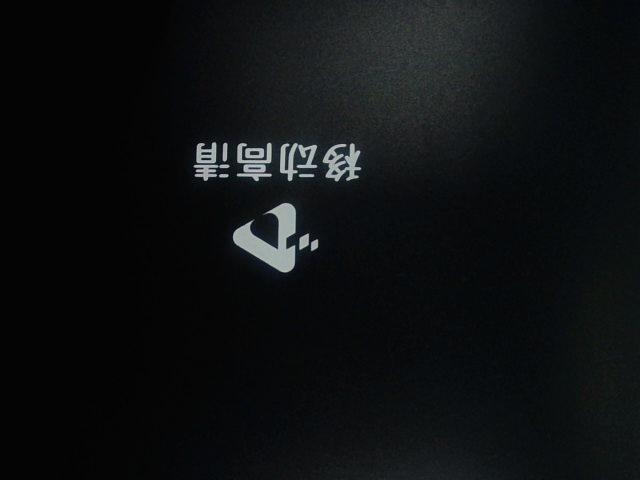AO_MobileHD: (183, 126, 386, 295)
